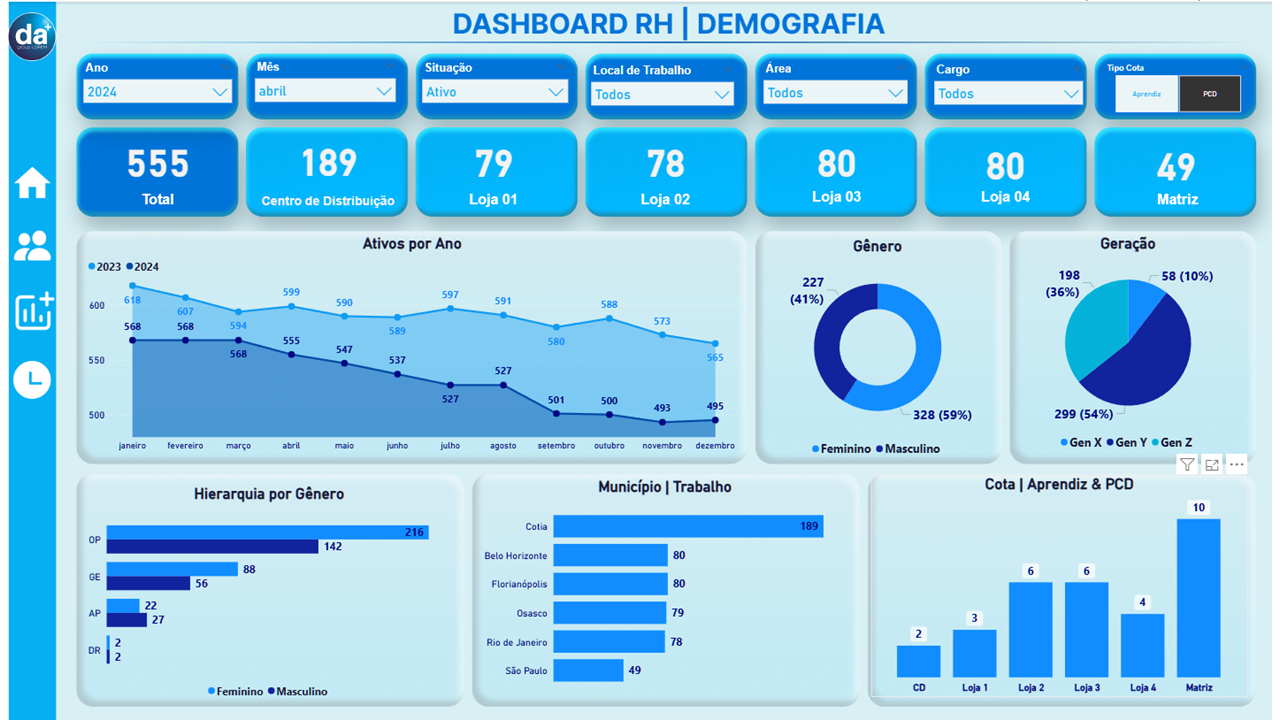

Layout of this report page (visuals, bound fields, positions):
{"tool":"powerbi","page":{"name":"Demografia","canvas":[1920,1080],"ordinal":1},"visuals":[{"type":"slicer","fields":{"Values":["D_Calendario.Date.Variation.Hierarquia de datas.Ano"]},"box":[104.3,84.3,242.9,95.7],"z":0},{"type":"slicer","fields":{"Values":["F_BASE.Local de Trabalho"]},"box":[867.1,87.1,234.3,87.1],"z":1000},{"type":"slicer","fields":{"Values":["F_BASE.Cargo"]},"box":[1383.3,86.5,243.4,83.8],"z":2000},{"type":"slicer","fields":{"Values":["F_BASE.Área"]},"box":[1127.1,85.7,235.7,94.3],"z":3000},{"type":"slicer","fields":{"Values":["TESTEMedida.Tipo"]},"box":[1640,87.8,238.1,85.1],"z":4000},{"type":"card","title":"xxxxx","fields":{"Values":["_Medida.Resultado_Filtro_Situacao"]},"box":[361.4,195.7,240,78.6],"z":6000},{"type":"textbox","box":[361.4,282.9,240,40],"z":7000},{"type":"textbox","box":[608.6,280,242.9,40],"z":8000},{"type":"textbox","box":[864.3,280,248.6,40],"z":9000},{"type":"textbox","box":[1127.1,277.1,240,40],"z":10000},{"type":"textbox","box":[1383.3,276.7,234.1,39.9],"z":11000},{"type":"textbox","box":[1640,280.6,238.1,39.9],"z":12000},{"type":"card","title":"xxxxx","fields":{"Values":["_Medida.Resultado_Filtro_Situacao"]},"box":[608.6,192.9,242.9,87.1],"z":13000},{"type":"card","title":"xxxxx","fields":{"Values":["_Medida.Resultado_Filtro_Situacao"]},"box":[864.3,195.7,248.6,81.4],"z":14000},{"type":"card","title":"xxxxx","fields":{"Values":["_Medida.Resultado_Filtro_Situacao"]},"box":[1127.1,195.7,240,81.4],"z":15000},{"type":"card","title":"xxxxx","fields":{"Values":["_Medida.Resultado_Filtro_Situacao"]},"box":[1636,195.5,242.1,91.8],"z":16000},{"type":"card","title":"xxxxx","fields":{"Values":["_Medida.Resultado_Filtro_Situacao"]},"box":[1383.3,198.2,234.1,82.5],"z":17000},{"type":"pieChart","title":"Geração","fields":{"Series":["D_Geracao.Geração"],"Y":["_Medida Demografia.Resultado_Filtro_Situacao"]},"box":[1504.3,350,360,332.9],"z":18000},{"type":"donutChart","title":"Gênero","fields":{"Y":["_Medida.Resultado_Filtro_Situacao"],"Series":["F_BASE.Sexo"]},"box":[1131.1,353.3,354.4,338.9],"z":19000},{"type":"clusteredBarChart","title":"Hierarquia por Gênero","fields":{"Category":["D_Tipo-Cargo.Tipo_Cargo"],"Series":["F_BASE.Sexo"],"Y":["_Medida.Resultado_Filtro_Situacao"]},"box":[114.3,725.7,557.1,330],"z":20000},{"type":"clusteredBarChart","title":"Município | Trabalho","fields":{"Category":["F_BASE.Local_Municipio"],"Y":["_Medida.Resultado_Filtro_Situacao"]},"box":[710,715.7,555.7,330],"z":21000},{"type":"lineStackedColumnComboChart","title":"Cota | Aprendiz & PCD","fields":{"Category":["F_BASE.Local de Trabalho"],"Y":["_Medida.TESTE_SWITCH"]},"box":[1298.6,711.4,565.7,334.3],"z":22000},{"type":"lineChart","title":"Ativos por Ano","fields":{"Category":["D_Calendario.Date.Variation.Hierarquia de datas.Mês"],"Series":["D_Calendario.Date.Variation.Hierarquia de datas.Ano"],"Y":["_Medida.Resultado_Filtro_Situacao"]},"box":[114.3,350,987.1,332.9],"z":23000},{"type":"slicer","fields":{"Values":["D_Situaccao.Situação"]},"box":[612.9,84.3,238.6,88.6],"z":24000},{"type":"slicer","fields":{"Values":["D_Calendario.Date.Variation.Hierarquia de datas.Mês"]},"box":[361.4,82.9,231.4,90],"z":25000},{"type":"textbox","box":[104.3,280,242.9,44.3],"z":26000},{"type":"card","title":"xxxxx","fields":{"Values":["_Medida.Resultado_Filtro_Situacao"]},"box":[104.3,194.3,242.9,84.3],"z":27000},{"type":"actionButton","box":[0,300,80,27.1],"z":28000},{"type":"actionButton","box":[0,491.4,80,25.7],"z":30000},{"type":"actionButton","box":[0,597.1,80,25.7],"z":31000}]}

Visuals, with their boxes on the page's 1920x1080 design canvas (x1, y1, x2, y2). These are canvas units, not pixel positions in the 1280x720 screenshot, which may show the page scaled, cropped or inside an application window:
slicer - D_Calendario.Date.Variation.Hierarquia de datas.Ano: (104, 84, 347, 180)
slicer - F_BASE.Local de Trabalho: (867, 87, 1101, 174)
slicer - F_BASE.Cargo: (1383, 86, 1627, 170)
slicer - F_BASE.Área: (1127, 86, 1363, 180)
slicer - TESTEMedida.Tipo: (1640, 88, 1878, 173)
"xxxxx" card: (361, 196, 601, 274)
textbox: (361, 283, 601, 323)
textbox: (609, 280, 852, 320)
textbox: (864, 280, 1113, 320)
textbox: (1127, 277, 1367, 317)
textbox: (1383, 277, 1617, 317)
textbox: (1640, 281, 1878, 320)
"xxxxx" card: (609, 193, 852, 280)
"xxxxx" card: (864, 196, 1113, 277)
"xxxxx" card: (1127, 196, 1367, 277)
"xxxxx" card: (1636, 196, 1878, 287)
"xxxxx" card: (1383, 198, 1617, 281)
"Geração" pieChart: (1504, 350, 1864, 683)
"Gênero" donutChart: (1131, 353, 1486, 692)
"Hierarquia por Gênero" clusteredBarChart: (114, 726, 671, 1056)
"Município | Trabalho" clusteredBarChart: (710, 716, 1266, 1046)
"Cota | Aprendiz & PCD" lineStackedColumnComboChart: (1299, 711, 1864, 1046)
"Ativos por Ano" lineChart: (114, 350, 1101, 683)
slicer - D_Situaccao.Situação: (613, 84, 852, 173)
slicer - D_Calendario.Date.Variation.Hierarquia de datas.Mês: (361, 83, 593, 173)
textbox: (104, 280, 347, 324)
"xxxxx" card: (104, 194, 347, 279)
actionButton: (0, 300, 80, 327)
actionButton: (0, 491, 80, 517)
actionButton: (0, 597, 80, 623)
